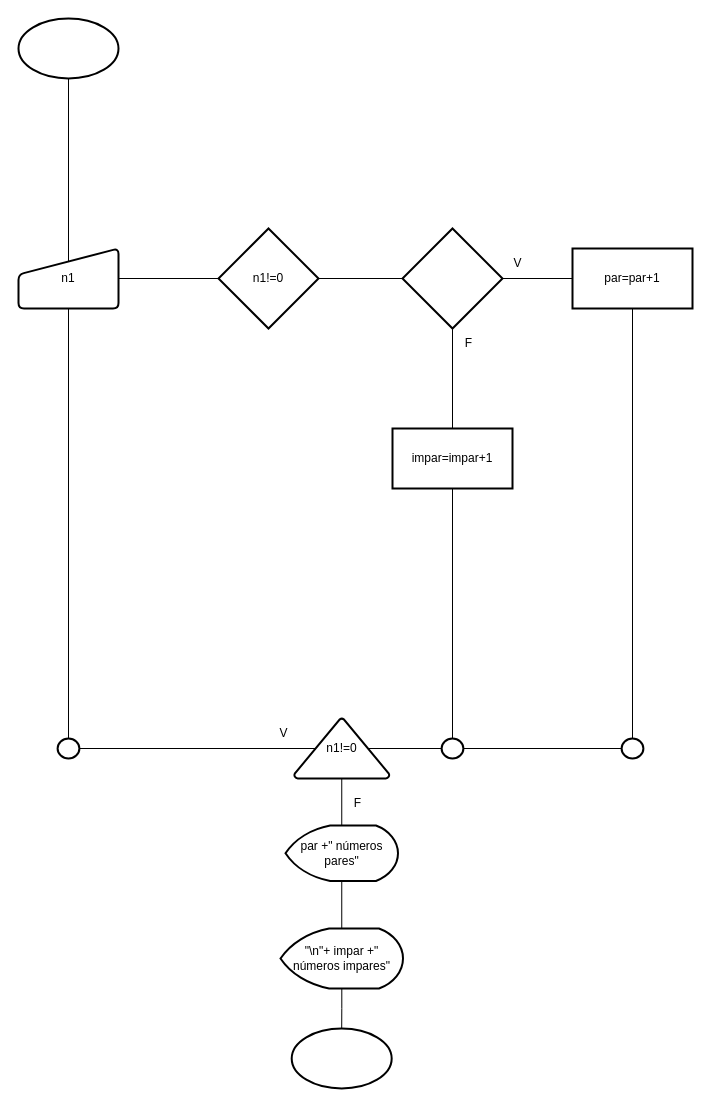
The diagram is 710 pixels wide and 1106 high, and some of its shapes have lost their labels. Here are the shapes that lost their labels. From the top down, the centre of each, then its label:
At point (68, 48): "Inicio".
At point (452, 278): "n1%2==0".
At point (341, 1058): "Fim".
